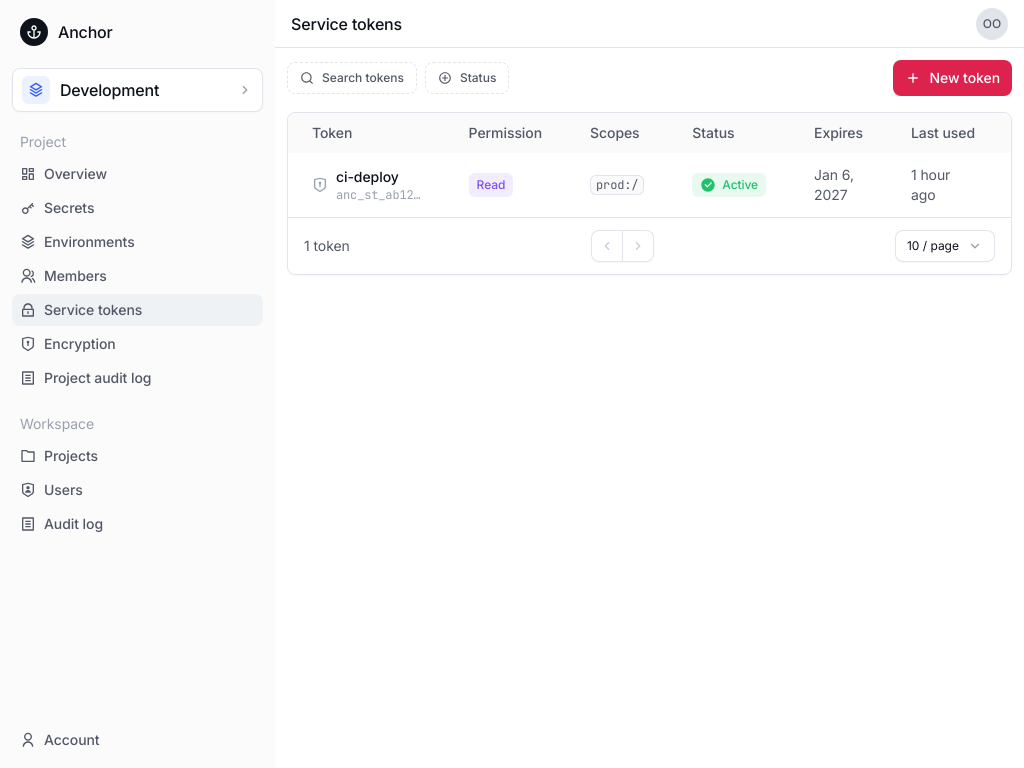
/projects/$project/settings/service-tokens › filtered-empty for the status filter
Expected: the text "ci-deploy" is shown, [336, 168, 399, 185]
Click the button "Status" at (467, 78), box [425, 62, 509, 94]
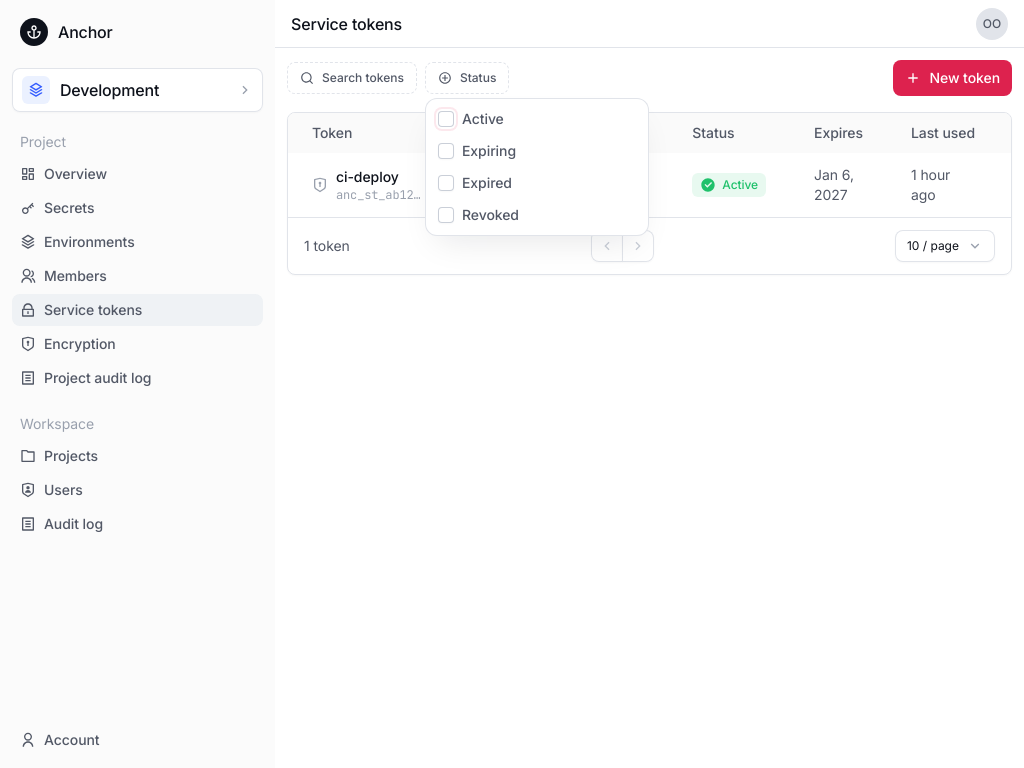
Click the checkbox named "Revoked" next to "Revoked" at (446, 215), box [438, 207, 454, 223]
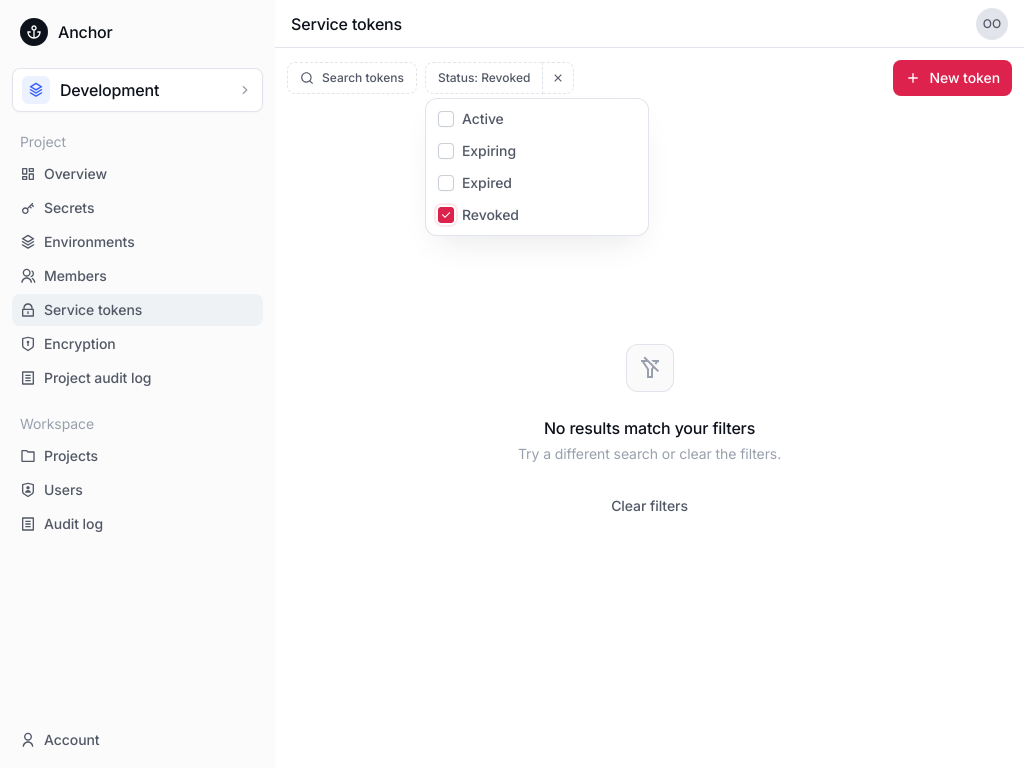
Press Escape
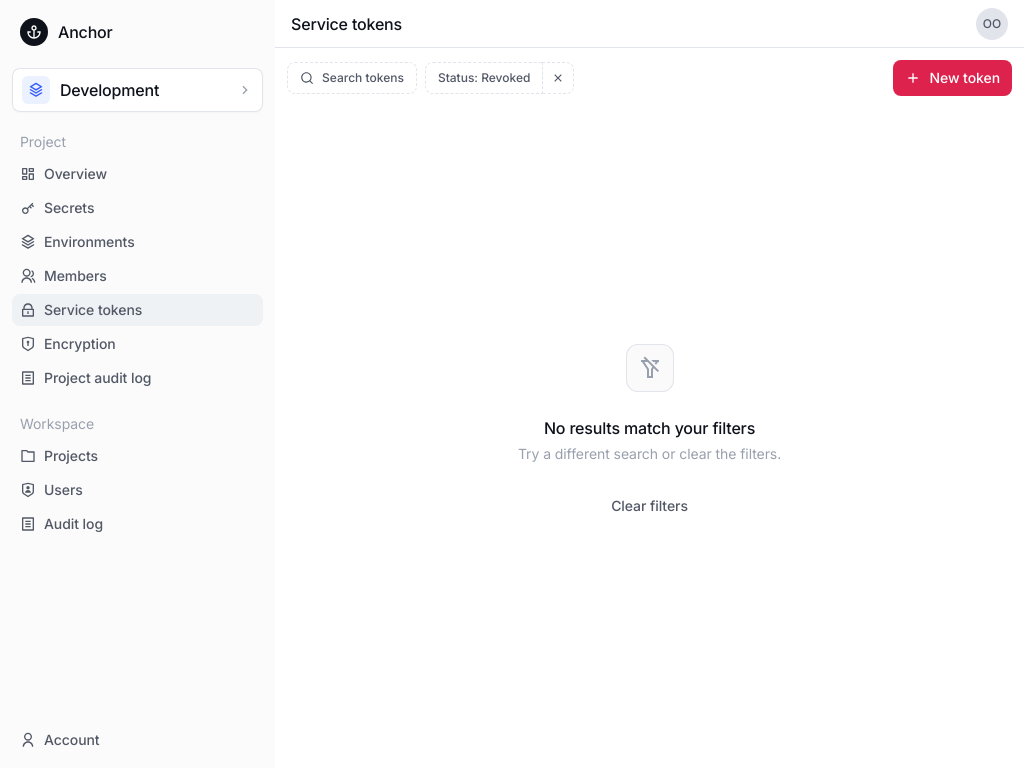
Expected: the heading "No results match your filters" is shown, [544, 416, 755, 440]
Click the button "Clear filters" at (649, 506), box [599, 488, 700, 524]
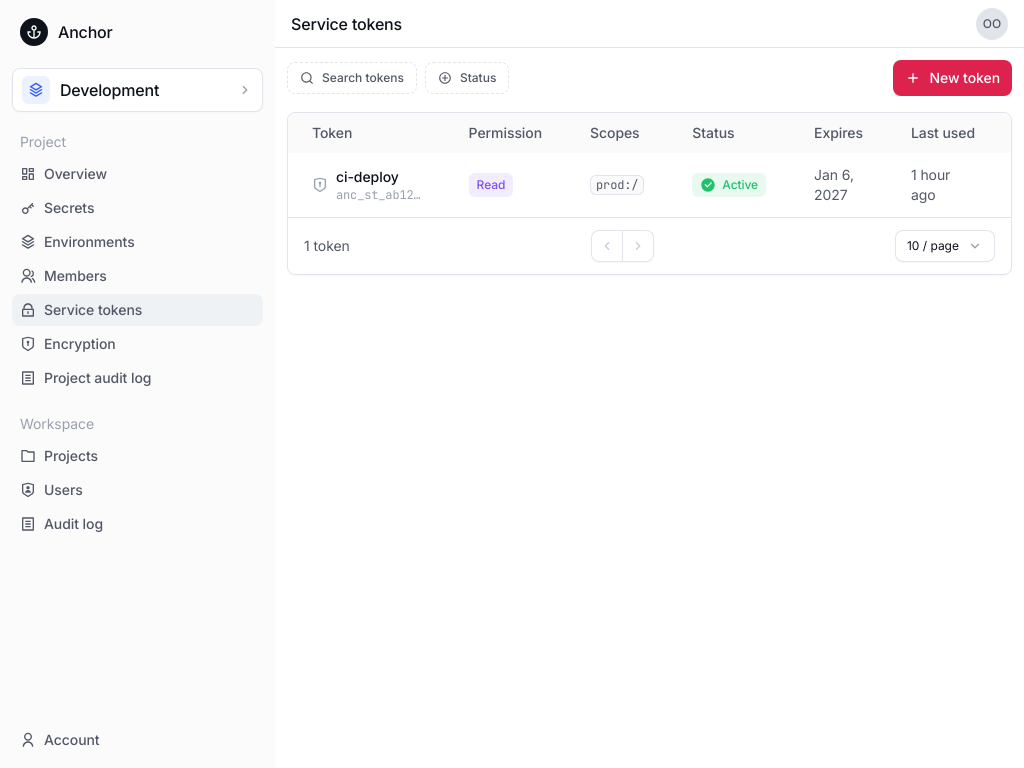
Expected: the text "ci-deploy" is shown, [336, 168, 399, 185]
